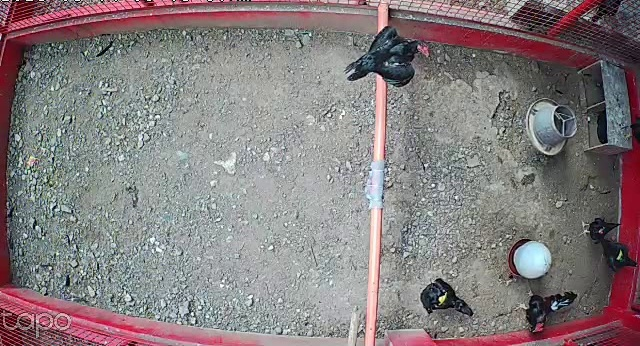Chicken: (342, 17, 432, 90), (420, 277, 475, 318), (597, 234, 639, 272), (575, 218, 622, 247)
Rooster: (508, 282, 578, 336)
Saddle_Color_Yellow: (433, 290, 448, 306)
Saddle_Color_YellowGreen: (618, 249, 624, 260)
